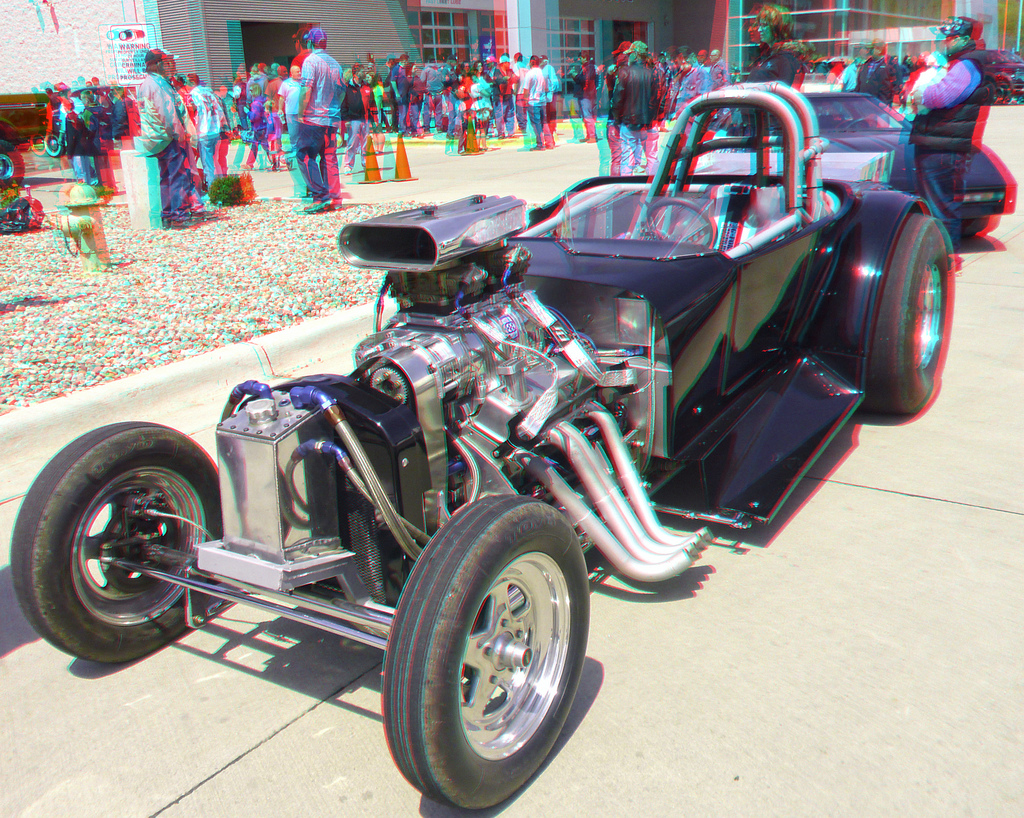Car: (10, 78, 954, 812), (708, 90, 1006, 238), (45, 83, 139, 158), (964, 46, 1023, 108)
